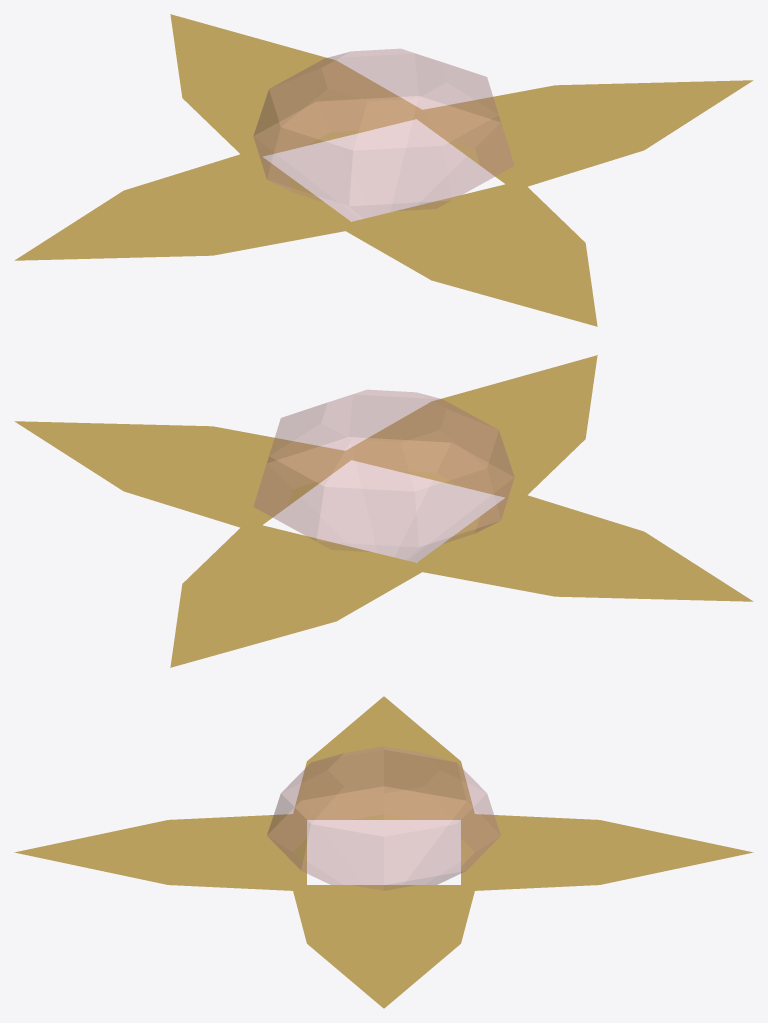
3 renders of one model, top to bottom at view 1: azimuth 30°, elevation 25°; view 2: azimuth 150°, elevation 25°; view 3: azimuth 270°, elevation 25°, orthographic. The views are drawn at different scales.
Visible parts, largest first — view 1: TI019 / raised ruby centre, TI019 / pointed brooch petal.003, TI019 / pointed brooch petal.001, TI019 / pointed brooch petal, TI019 / pointed brooch petal.002; view 2: TI019 / raised ruby centre, TI019 / pointed brooch petal.003, TI019 / pointed brooch petal.001, TI019 / pointed brooch petal.002, TI019 / pointed brooch petal; view 3: TI019 / raised ruby centre, TI019 / pointed brooch petal, TI019 / pointed brooch petal.002, TI019 / pointed brooch petal.003, TI019 / pointed brooch petal.001.
Boxes of the visible parts, x1,y1,x2,y2 form: TI019 / raised ruby centre: (253,48,514,221); TI019 / pointed brooch petal.003: (409,80,753,190); TI019 / pointed brooch petal.001: (14,154,359,260); TI019 / pointed brooch petal: (170,14,428,160); TI019 / pointed brooch petal.002: (346,184,597,326); TI019 / raised ruby centre: (253,389,514,562); TI019 / pointed brooch petal.003: (14,421,359,531); TI019 / pointed brooch petal.001: (408,495,753,601); TI019 / pointed brooch petal.002: (341,355,597,501); TI019 / pointed brooch petal: (170,525,421,667); TI019 / raised ruby centre: (267,746,500,890); TI019 / pointed brooch petal: (461,813,753,891); TI019 / pointed brooch petal.002: (14,813,306,891); TI019 / pointed brooch petal.003: (292,885,475,1008); TI019 / pointed brooch petal.001: (291,696,475,819).
Size of the model in its own units: 2.4 by 0.4826 by 2.4.
